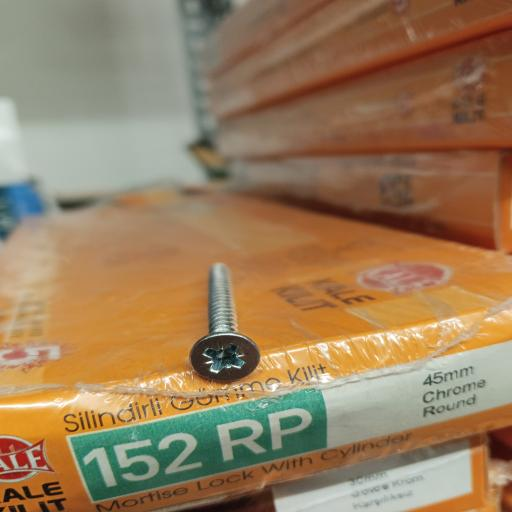Pozidriv: (187, 332, 261, 387)
